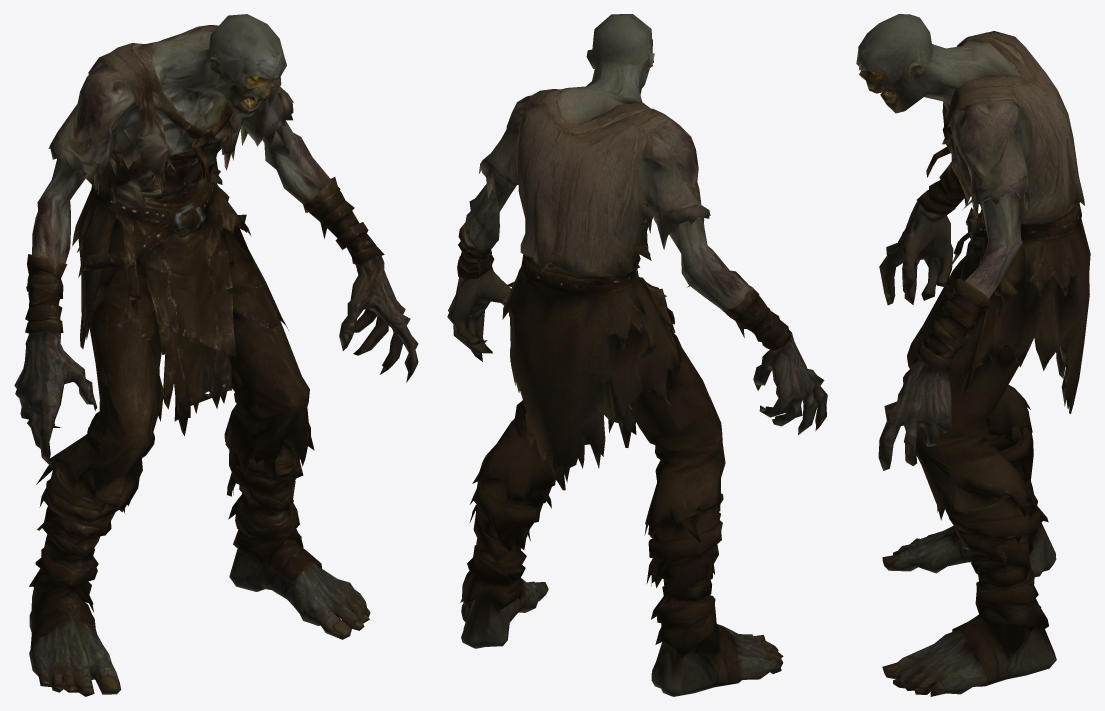
Rendered from undead-zombie.glb.
The picture shows the model from 3 angles, left to right: view 1: azimuth 30°, elevation 25°; view 2: azimuth 150°, elevation 25°; view 3: azimuth 270°, elevation 25°; orthographic projection. The views are drawn at different scales.
Parts seen in each view (by area): view 1: model; view 2: model; view 3: model.
Boxes of the visible parts, left/top/right/bottom form: model: left=14, top=14, right=418, bottom=696; model: left=447, top=14, right=827, bottom=696; model: left=856, top=14, right=1090, bottom=696.
Bounding box in the file's own units: 1.18 × 1.9 × 0.6537.
Materials: 1 (1 with a texture image).
